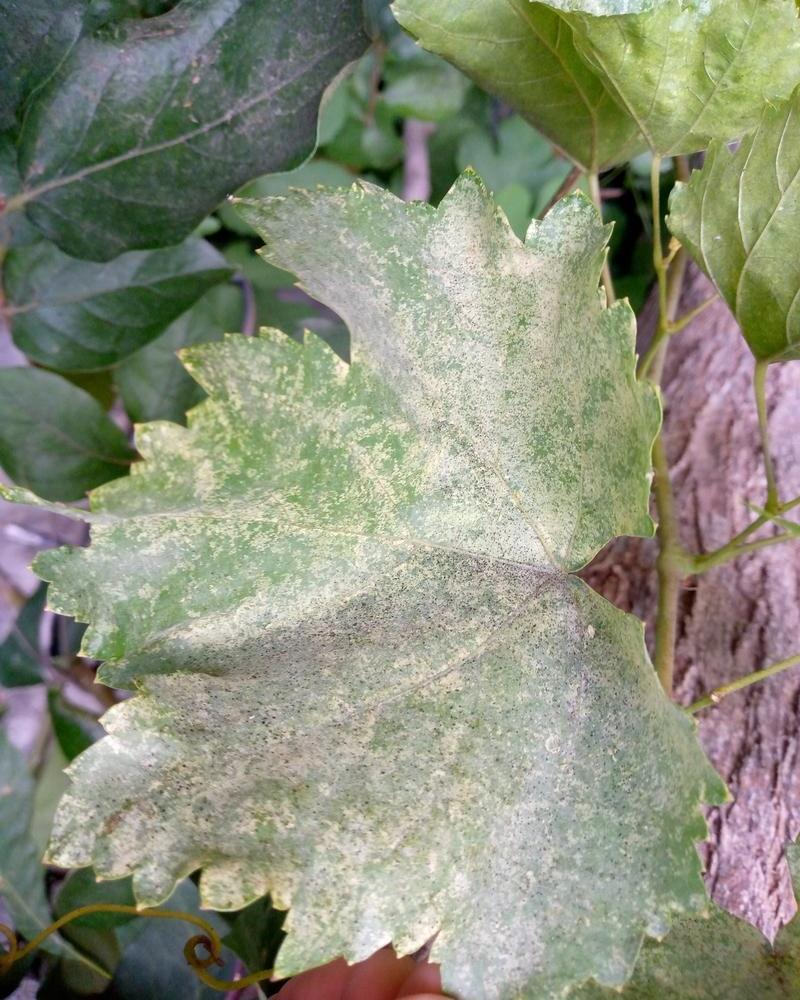Powdery-Mildew: (380, 204, 591, 467)
